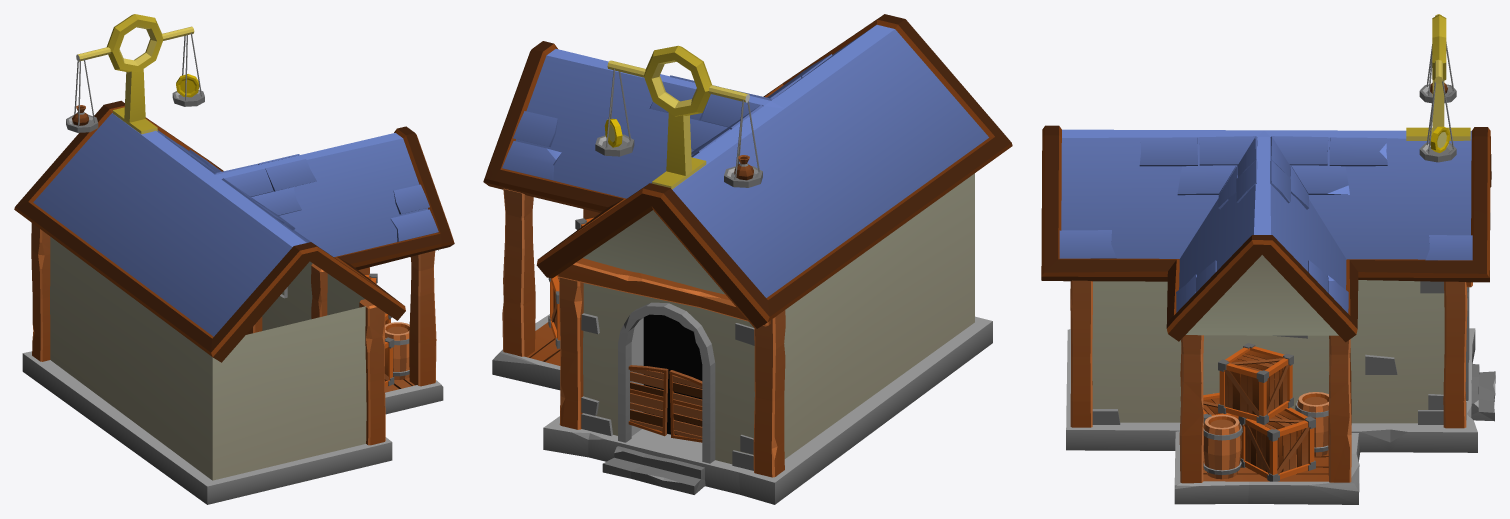
The model's file is storage_01.fbx.
3 renders of one model, left to right at view 1: azimuth 30°, elevation 25°; view 2: azimuth 150°, elevation 25°; view 3: azimuth 270°, elevation 25°, orthographic. The views are drawn at different scales.
Visible parts, largest first — view 1: Box072.020; view 2: Box072.020; view 3: Box072.020.
Boxes of the visible parts, x1=… form: Box072.020: x1=14, y1=14, x2=454, y2=504; Box072.020: x1=483, y1=14, x2=1012, y2=504; Box072.020: x1=1041, y1=14, x2=1495, y2=504.
Size of the model in its own units: 6.87 by 7.58 by 8.09.
